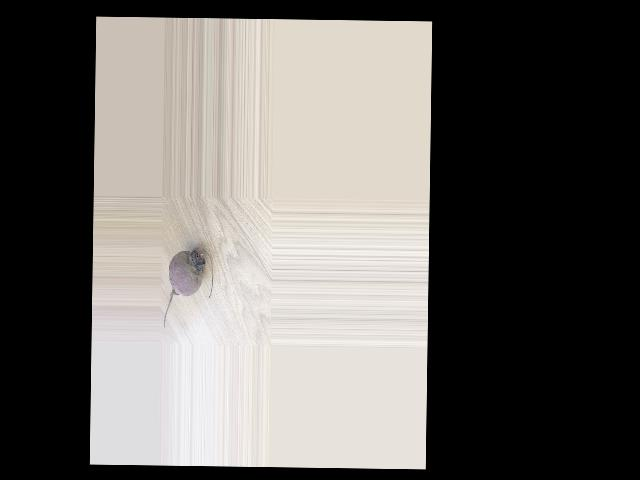beet: (163, 248, 213, 328)
